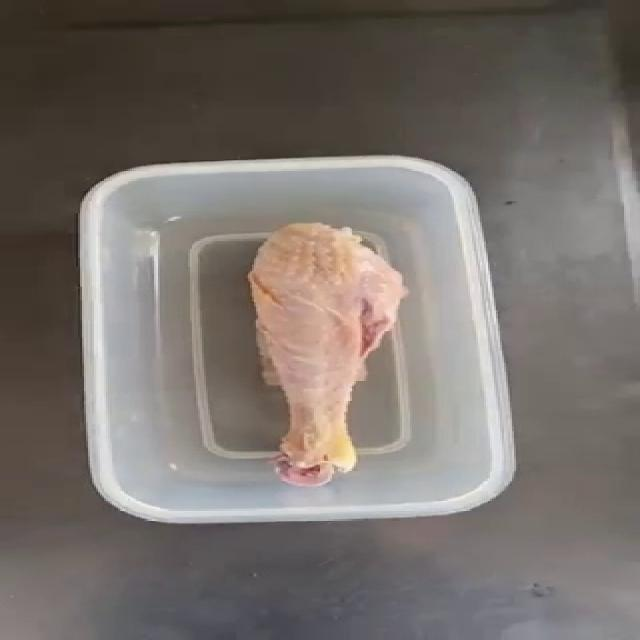chicken: (245, 221, 408, 487)
